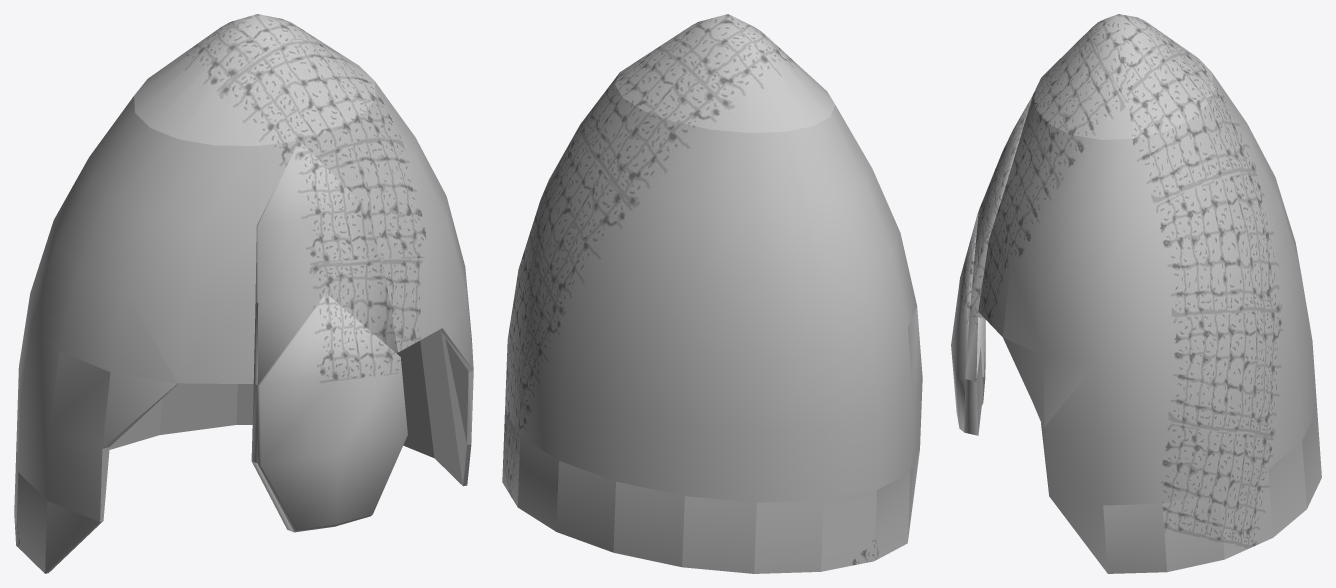
Rendered from Helm.FBX.
3 views of the same model, side by side, from view 1: azimuth 30°, elevation 25°; view 2: azimuth 150°, elevation 25°; view 3: azimuth 270°, elevation 25° (orthographic). The views are drawn at different scales.
Visible parts, largest first — view 1: Cylinder108; view 2: Cylinder108; view 3: Cylinder108.
Boxes of the visible parts, x1=… form: Cylinder108: x1=14, y1=14, x2=473, y2=573; Cylinder108: x1=502, y1=14, x2=922, y2=573; Cylinder108: x1=951, y1=14, x2=1321, y2=573.
Size of the model in its own units: 0.00205 by 0.00246 by 0.00176.
